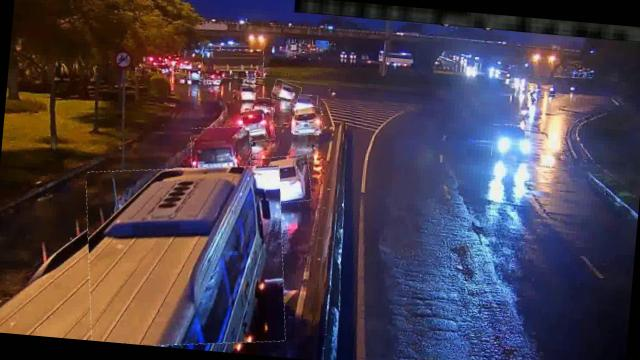Bus: (77, 154, 295, 356), (188, 124, 254, 182)
Car: (259, 152, 313, 206), (490, 124, 530, 162), (240, 107, 276, 144), (291, 104, 323, 136), (272, 80, 302, 103), (244, 96, 276, 116), (292, 94, 318, 115), (234, 84, 258, 103)
Truck: (201, 47, 265, 82)
